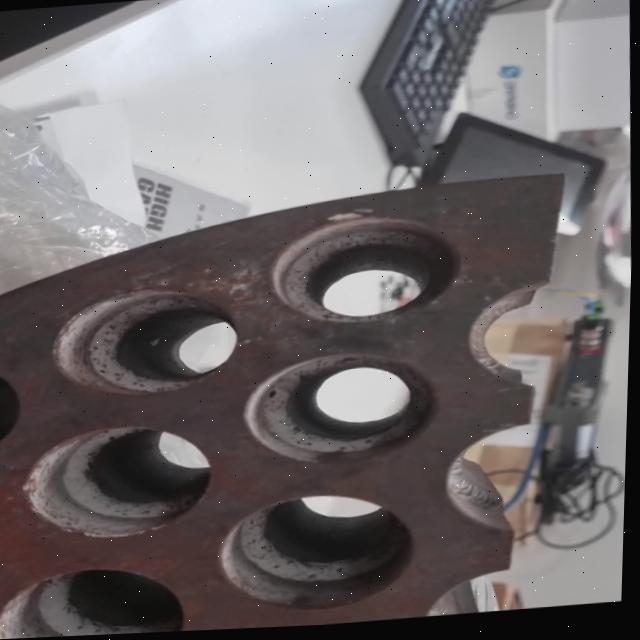Hole: (218, 491, 423, 619), (243, 347, 446, 473), (22, 420, 222, 546), (268, 207, 465, 333), (50, 284, 243, 403), (0, 562, 191, 640)
